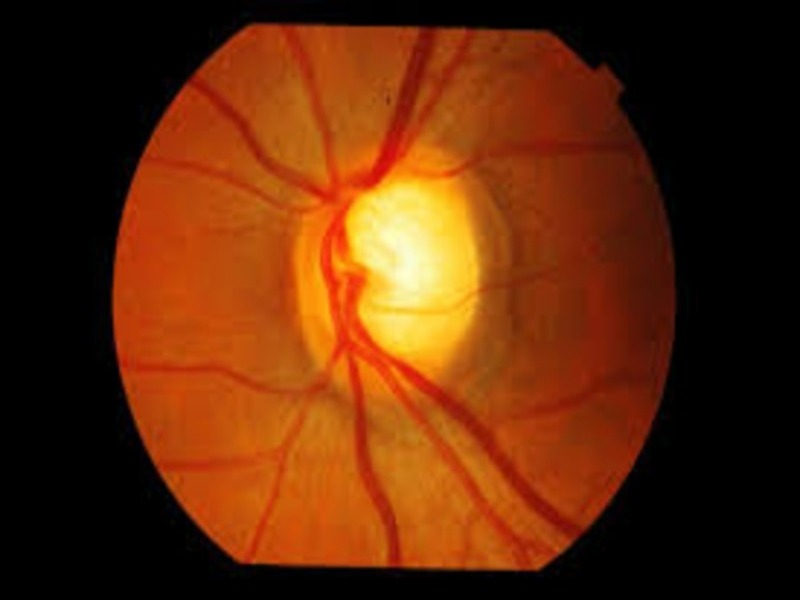Optic Cup: (348, 178, 479, 369)
Optic Disc: (290, 141, 515, 402)
